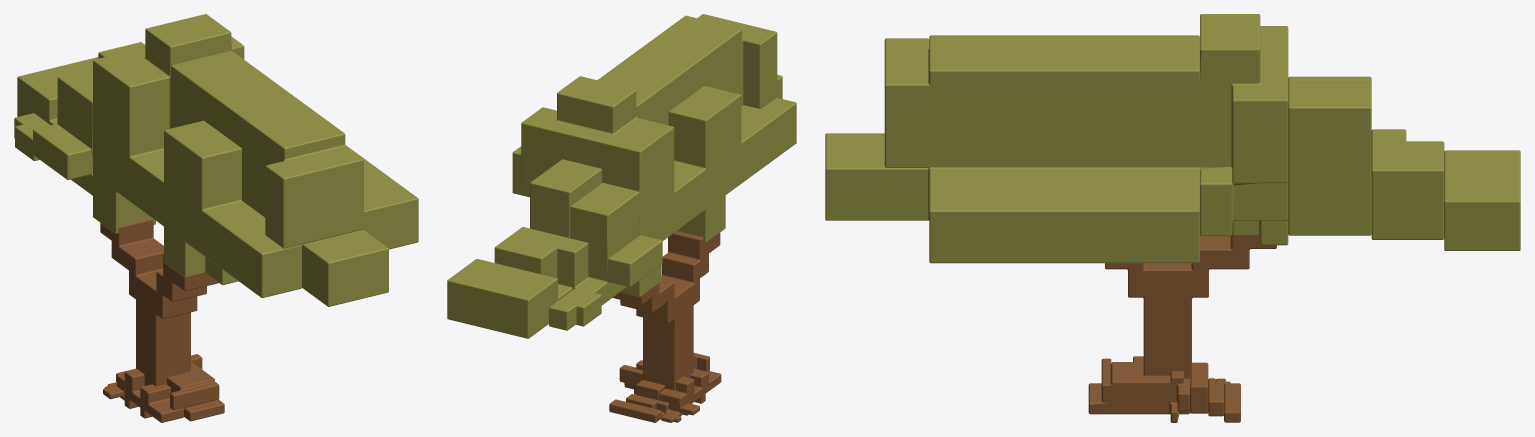
3 views of the same model, side by side, from view 1: azimuth 30°, elevation 25°; view 2: azimuth 150°, elevation 25°; view 3: azimuth 270°, elevation 25° (orthographic). The views are drawn at different scales.
Parts seen in each view (by area): view 1: BipJamExport_desert_tree; view 2: BipJamExport_desert_tree; view 3: BipJamExport_desert_tree.
Part boxes in pixels (bbox=[...]): BipJamExport_desert_tree: bbox=[14, 14, 418, 422]; BipJamExport_desert_tree: bbox=[447, 14, 796, 422]; BipJamExport_desert_tree: bbox=[825, 14, 1520, 422].
Bounding box in the file's own units: 0.7914 × 1.3 × 2.01.
